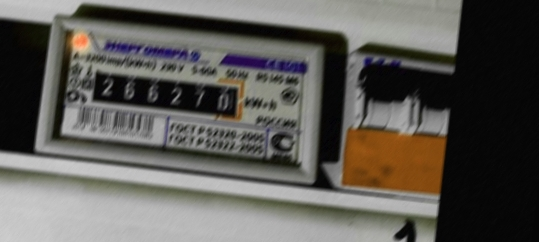0: (215, 89, 229, 110)
2: (99, 74, 116, 96), (169, 84, 183, 105)
6: (122, 78, 136, 100), (146, 81, 160, 101)
7: (192, 86, 206, 107)
screen: (77, 55, 256, 130)
